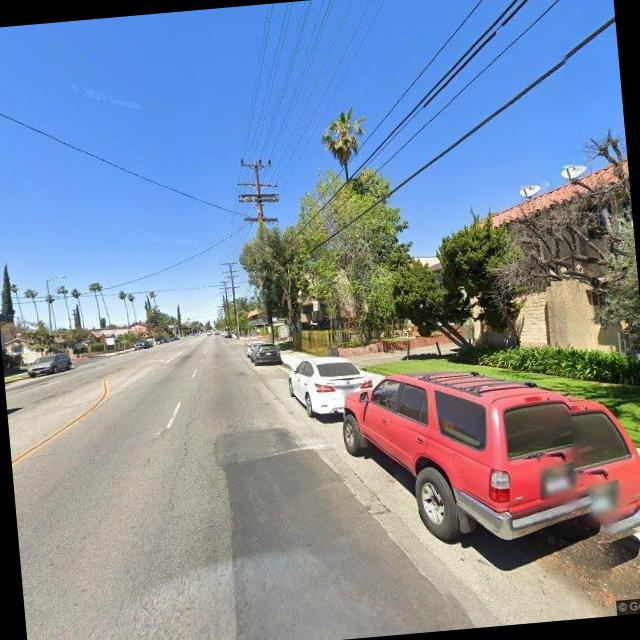pothole: (153, 379, 207, 499)
